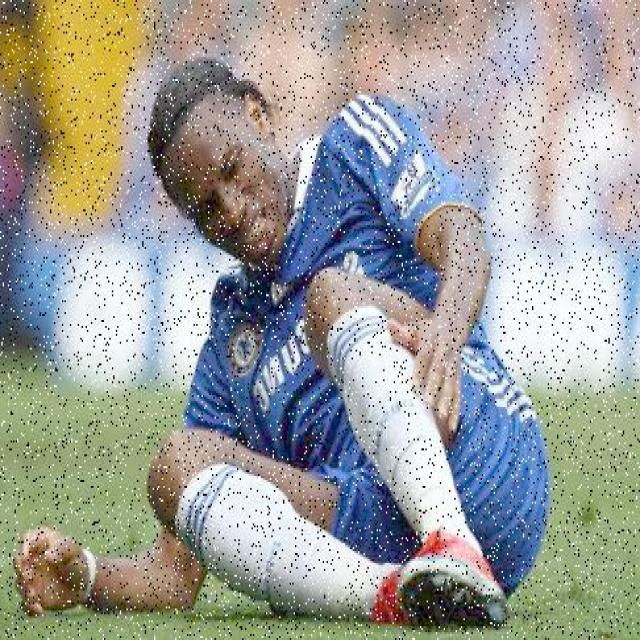fall: (42, 56, 537, 608)
